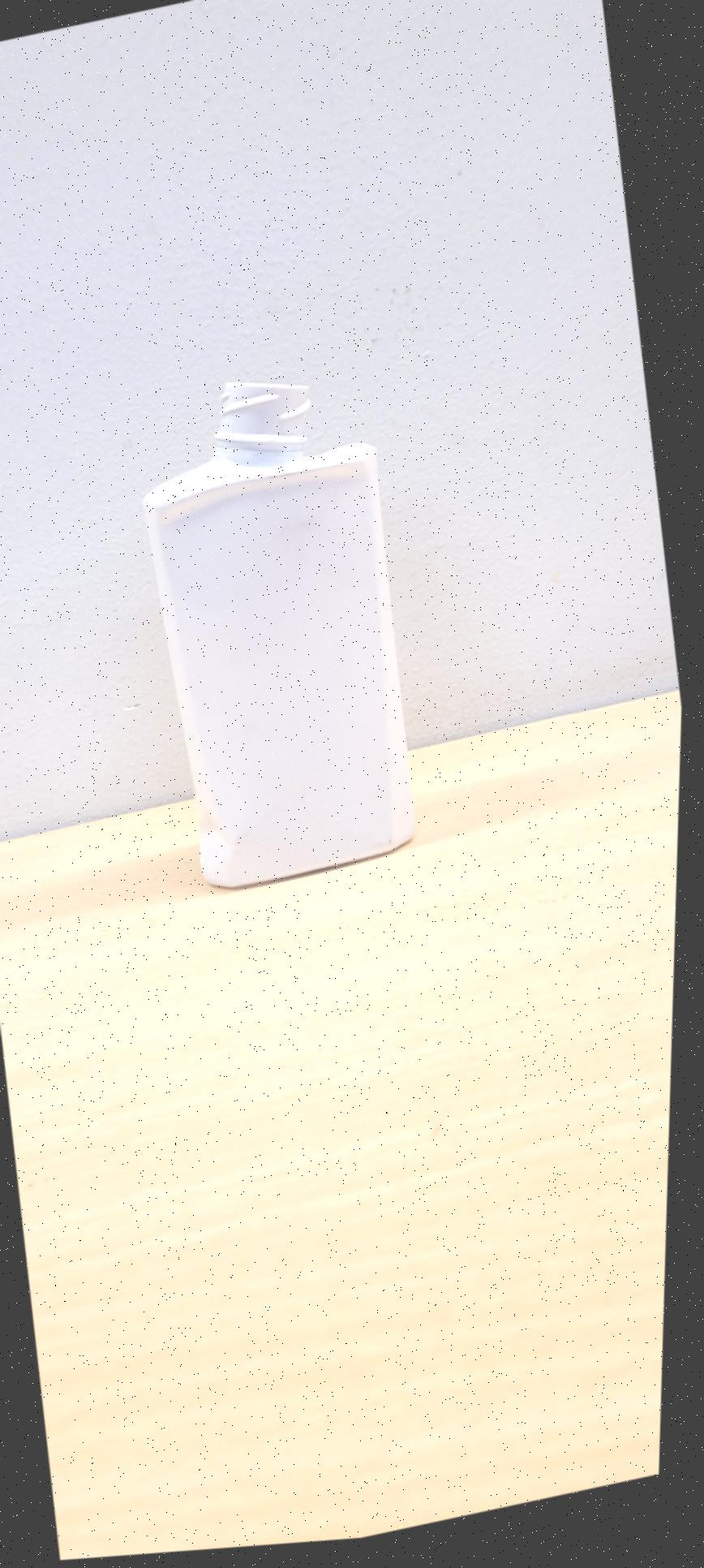bottle: (144, 381, 414, 887)
